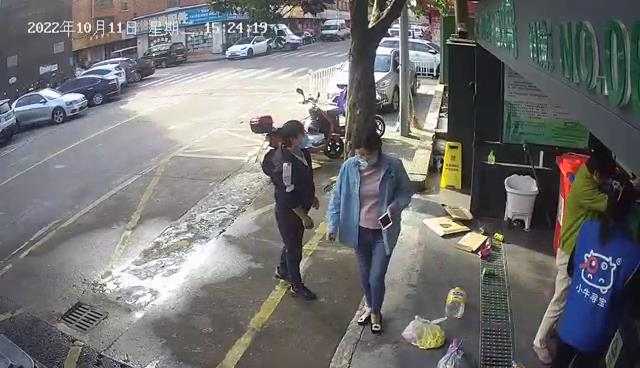garbage-bag: (401, 315, 449, 350), (434, 337, 475, 368)
lvzhipin: (482, 264, 497, 278), (478, 247, 493, 258), (494, 232, 504, 241)
person: (531, 147, 616, 364), (270, 119, 320, 302)
suliaozhipin: (445, 285, 468, 320)
worker: (325, 129, 414, 334), (553, 180, 640, 367)
zhizhipin: (423, 215, 472, 237), (454, 231, 489, 253), (440, 202, 474, 221)
